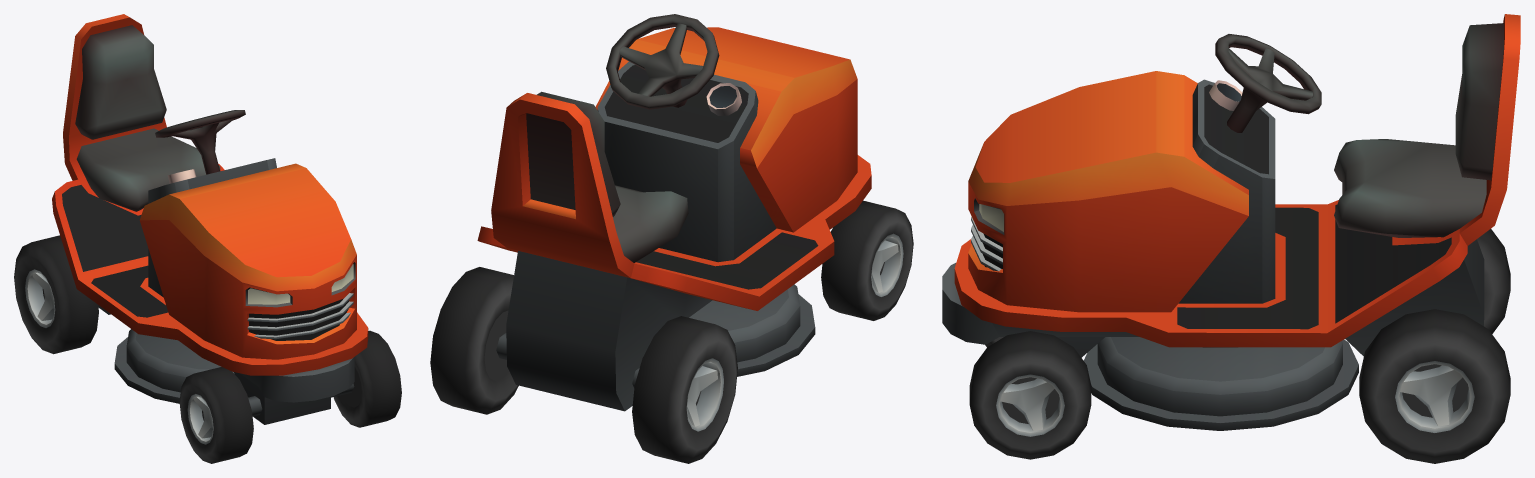
Rendered from TSP_Lawnmower_01A.fbx.
3 renders of one model, left to right at view 1: azimuth 30°, elevation 25°; view 2: azimuth 150°, elevation 25°; view 3: azimuth 270°, elevation 25°, orthographic. The views are drawn at different scales.
Visible parts, largest first — view 1: TSP_Lawnmower_01A_Body, TSP_Lawnmower_01A_Wheel_R.R, TSP_Lawnmower_01A_Wheel_F.R, TSP_Lawnmower_01A_Wheel_F.L, TSP_Lawnmower_01A_Steering_Wheel; view 2: TSP_Lawnmower_01A_Body, TSP_Lawnmower_01A_Wheel_R.R, TSP_Lawnmower_01A_Wheel_R.L, TSP_Lawnmower_01A_Wheel_F.R, TSP_Lawnmower_01A_Steering_Wheel; view 3: TSP_Lawnmower_01A_Body, TSP_Lawnmower_01A_Wheel_R.L, TSP_Lawnmower_01A_Wheel_F.L, TSP_Lawnmower_01A_Steering_Wheel, TSP_Lawnmower_01A_Wheel_R.R.
Part boxes in pixels (x1=…): TSP_Lawnmower_01A_Body: x1=52, y1=14, x2=368, y2=424; TSP_Lawnmower_01A_Wheel_R.R: x1=14, y1=235, x2=98, y2=354; TSP_Lawnmower_01A_Wheel_F.R: x1=179, y1=367, x2=253, y2=463; TSP_Lawnmower_01A_Wheel_F.L: x1=333, y1=330, x2=401, y2=427; TSP_Lawnmower_01A_Steering_Wheel: x1=155, y1=110, x2=245, y2=174; TSP_Lawnmower_01A_Body: x1=477, y1=27, x2=871, y2=411; TSP_Lawnmower_01A_Wheel_R.R: x1=632, y1=316, x2=737, y2=463; TSP_Lawnmower_01A_Wheel_R.L: x1=430, y1=267, x2=518, y2=414; TSP_Lawnmower_01A_Wheel_F.R: x1=821, y1=200, x2=913, y2=320; TSP_Lawnmower_01A_Steering_Wheel: x1=606, y1=14, x2=719, y2=109; TSP_Lawnmower_01A_Body: x1=942, y1=14, x2=1520, y2=430; TSP_Lawnmower_01A_Wheel_R.L: x1=1359, y1=309, x2=1510, y2=463; TSP_Lawnmower_01A_Wheel_F.L: x1=969, y1=331, x2=1091, y2=459; TSP_Lawnmower_01A_Steering_Wheel: x1=1215, y1=34, x2=1321, y2=132; TSP_Lawnmower_01A_Wheel_R.R: x1=1477, y1=229, x2=1510, y2=333.
Bounding box in the file's own units: 1.14 × 1.55 × 2.16.
